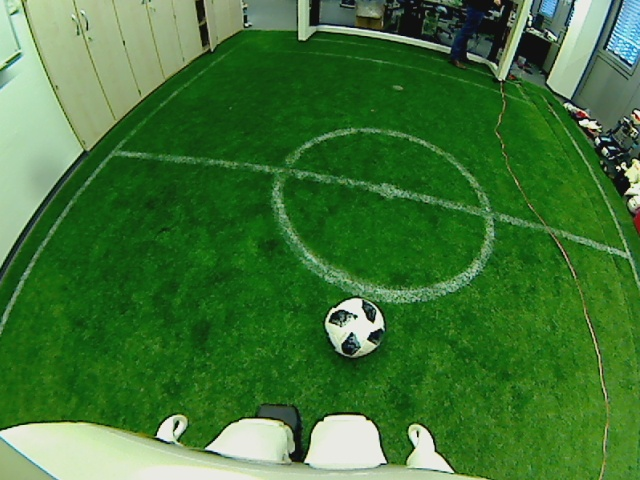ball: (323, 293, 386, 358)
